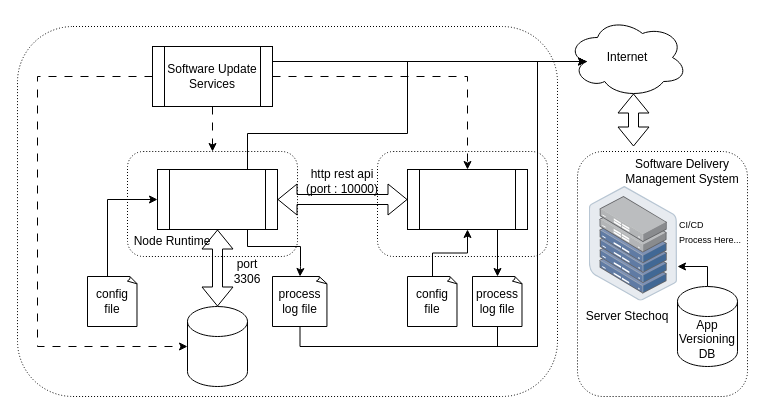
Image size: 765x414. Some labels were removed from this diagram. Each missing label, with the centre of its shape:
"BE Build" goes at [217,199].
"FE Build" goes at [467,199].
"MySQL DB" goes at [217,346].
